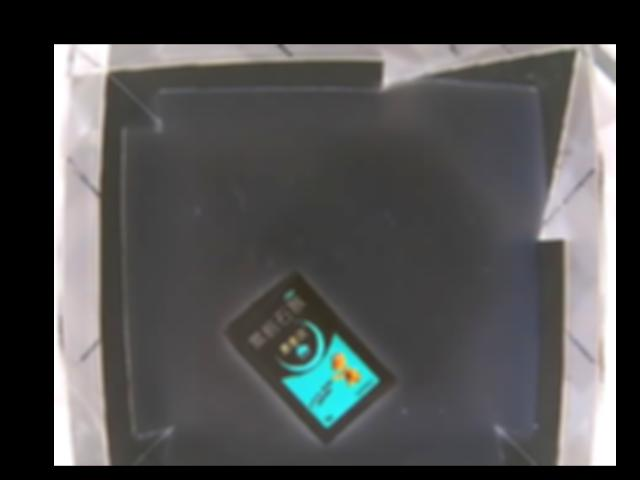Medicine: (223, 269, 397, 443)
